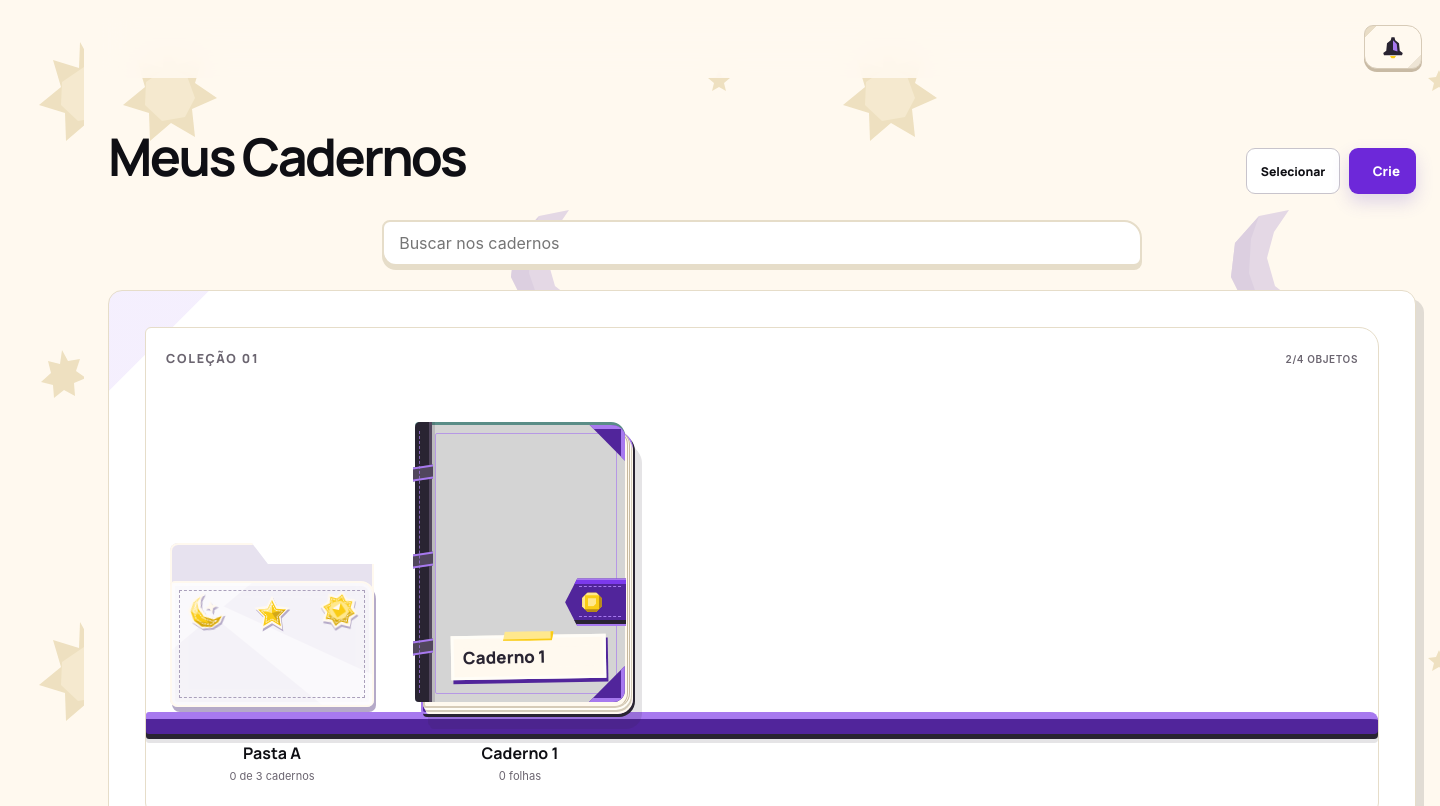
mover cadernos para pasta pelo teclado, sem arrastar › move de volta para a vitrine
Click the button "Selecionar": (1293, 171) [1246,148,1340,194]
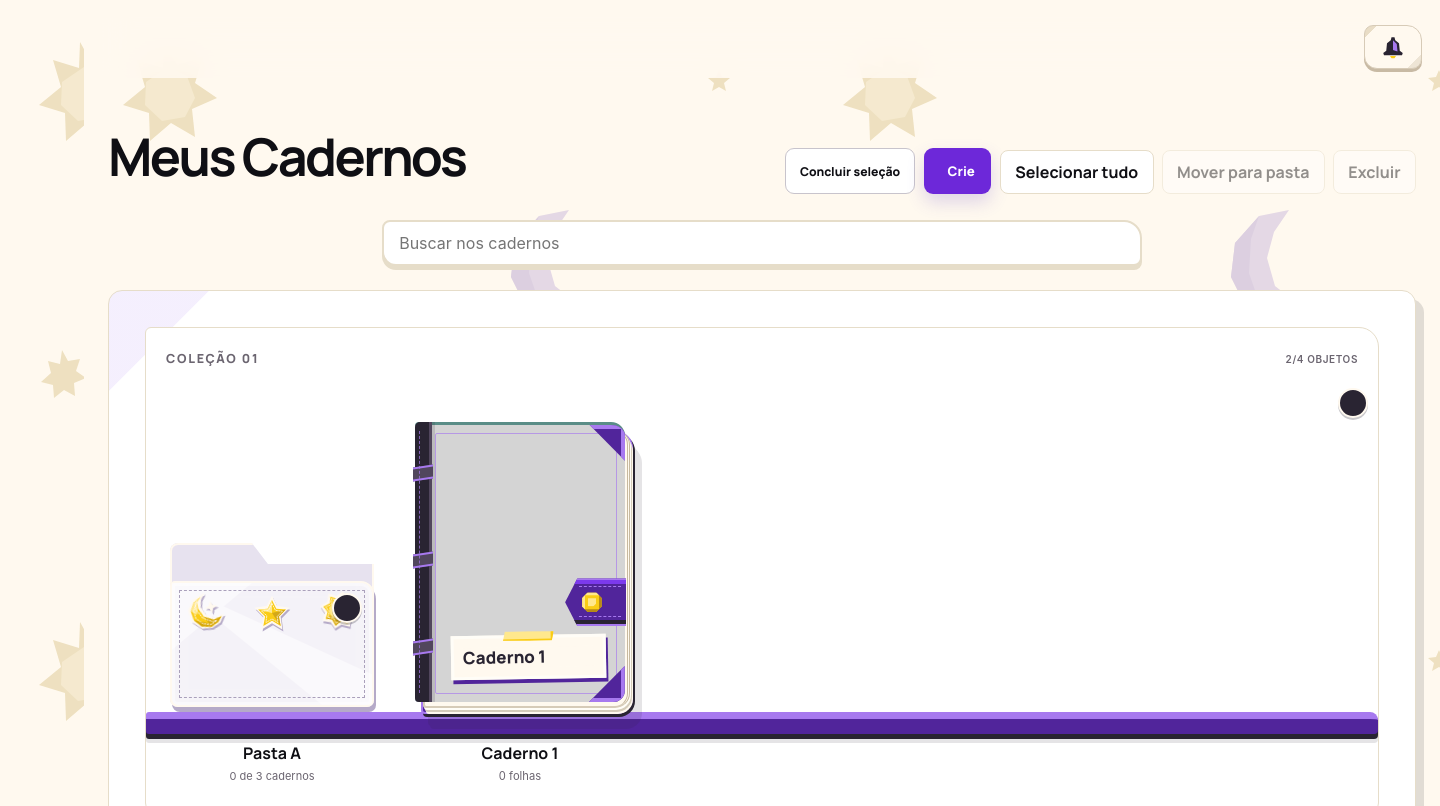
Click the button with aria-label "Abrir Caderno 1": (520, 597) [410,402,630,792]
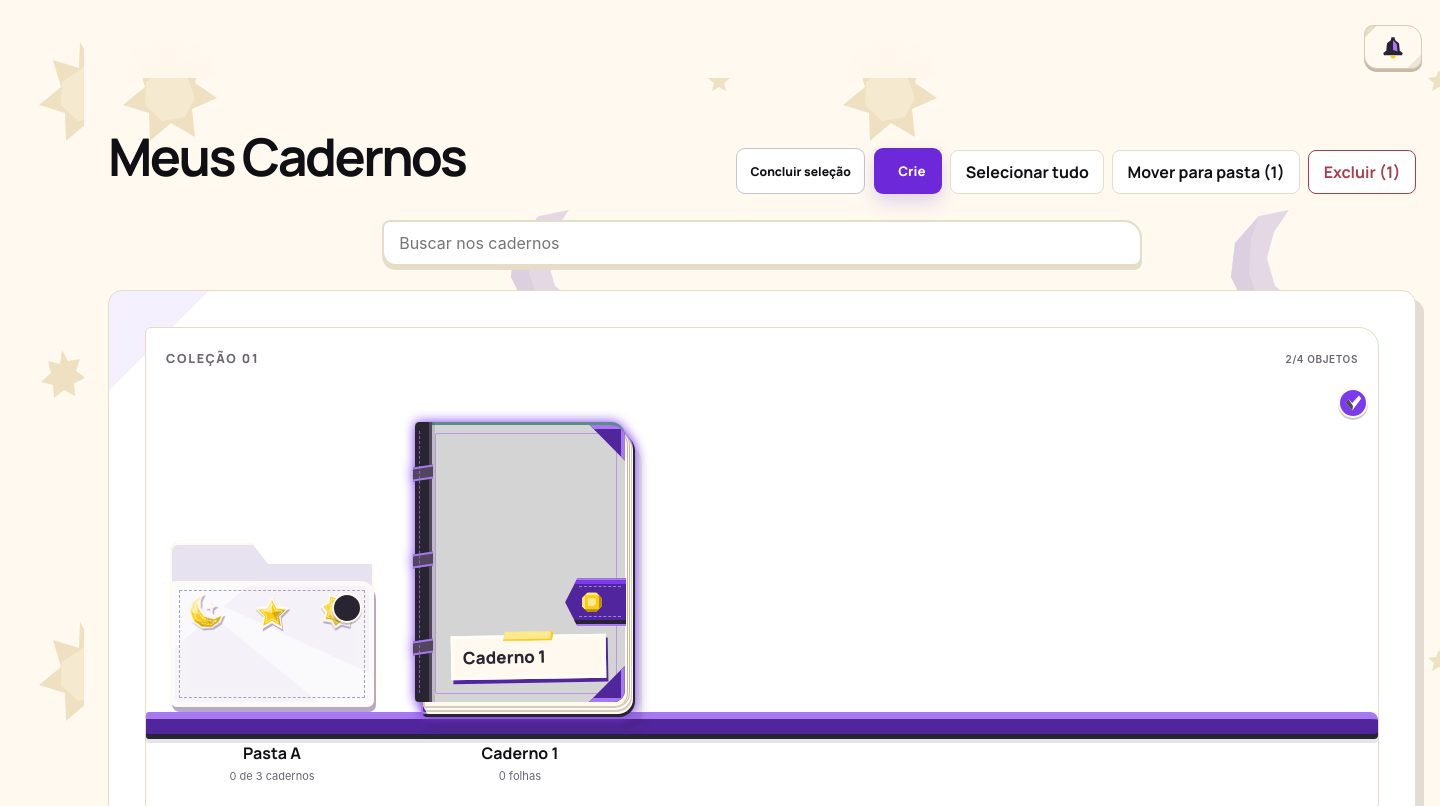
Click the button "Mover para pasta (1)": (1206, 172) [1112,150,1300,194]
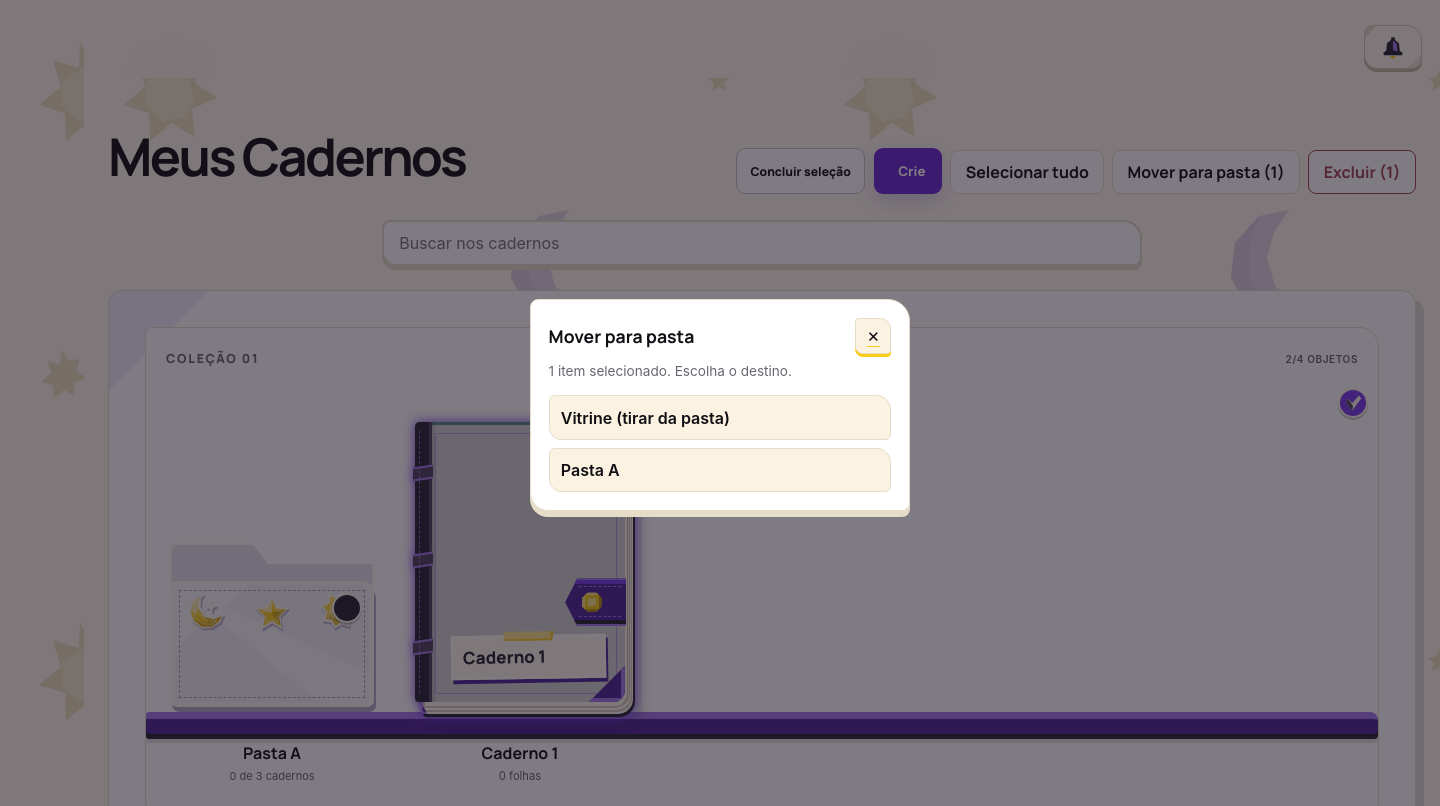
Click the button "Vitrine (tirar da pasta)": (720, 418) [549,395,891,440]
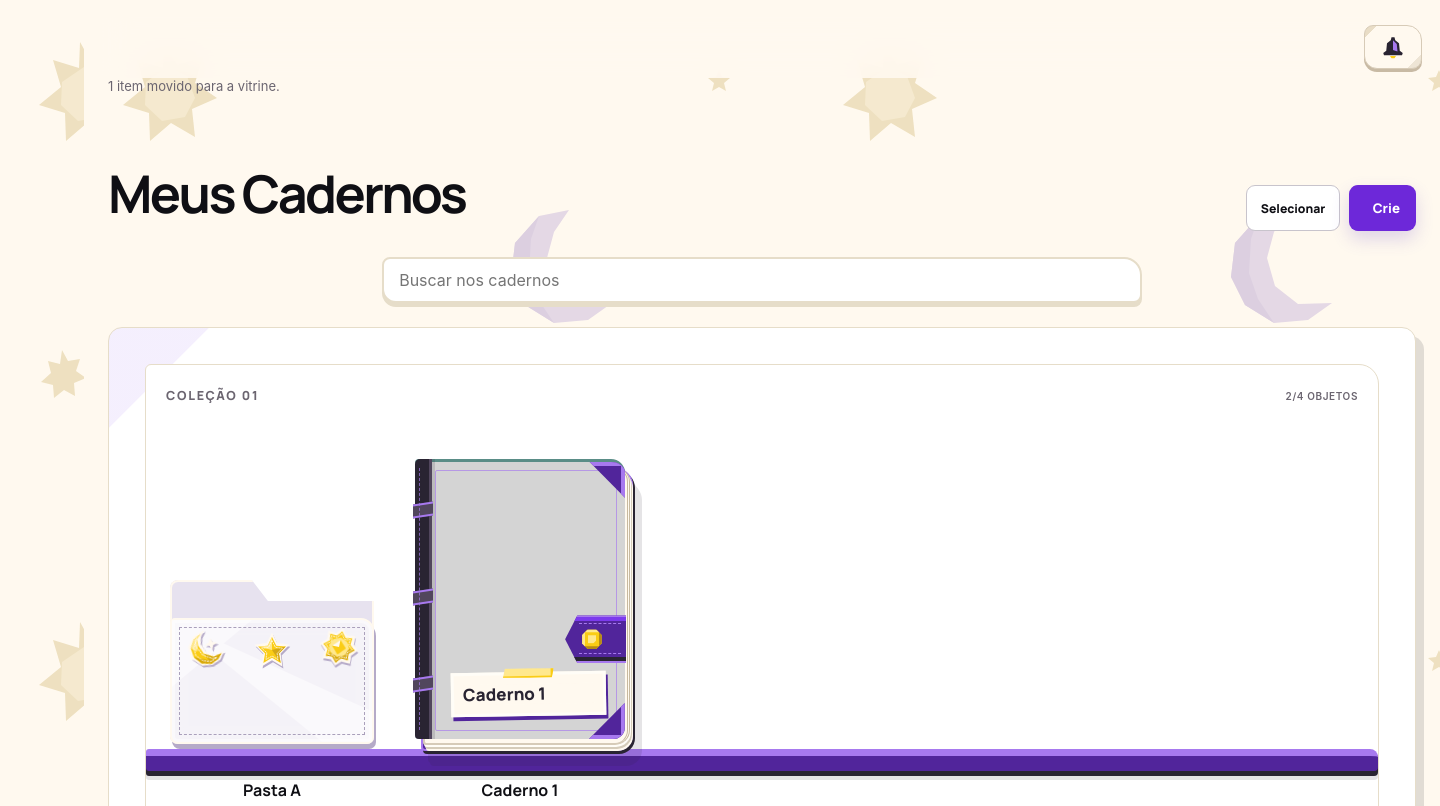
Expected: the text "1 item movido para a vitrine." is shown, [108,78,280,94]
